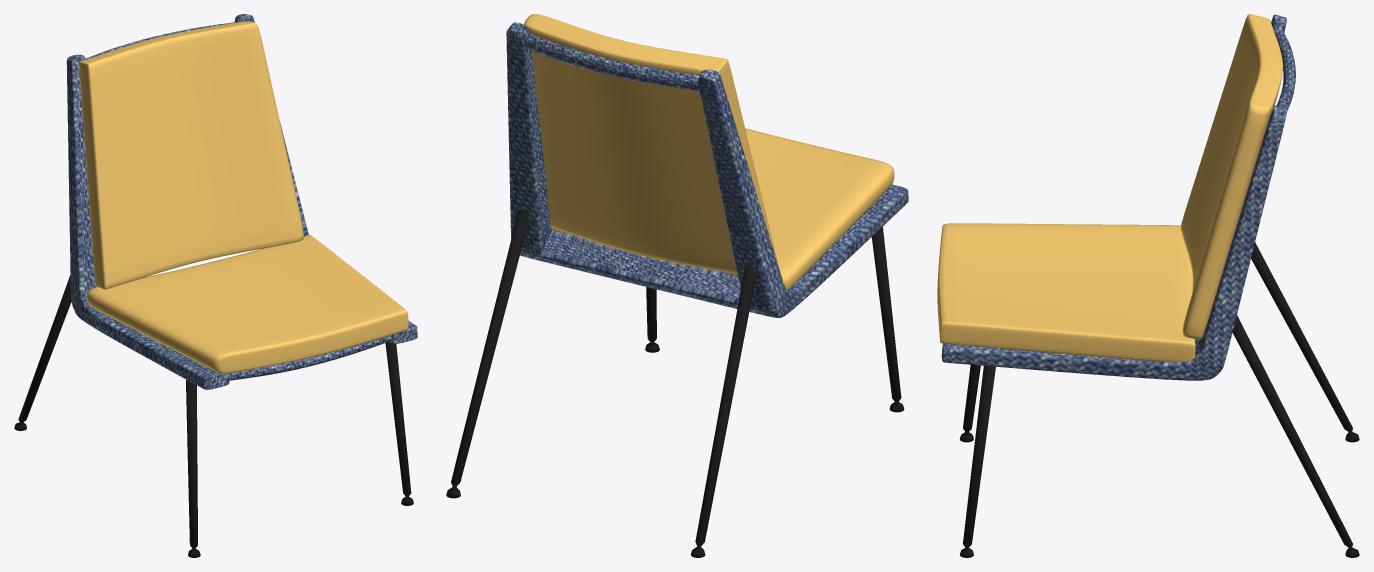
Rendered from Silla_LobbyB.fbx.
3 views of the same model, side by side, from view 1: azimuth 30°, elevation 25°; view 2: azimuth 150°, elevation 25°; view 3: azimuth 270°, elevation 25° (orthographic). The views are drawn at different scales.
Visible parts, largest first — view 1: SillaLobby; view 2: SillaLobby; view 3: SillaLobby.
Part boxes in pixels (<box>): SillaLobby: <box>14,14,417,557</box>; SillaLobby: <box>446,14,908,557</box>; SillaLobby: <box>937,14,1359,557</box>.
Size of the model in its own units: 52.44 by 85.45 by 74.85.
